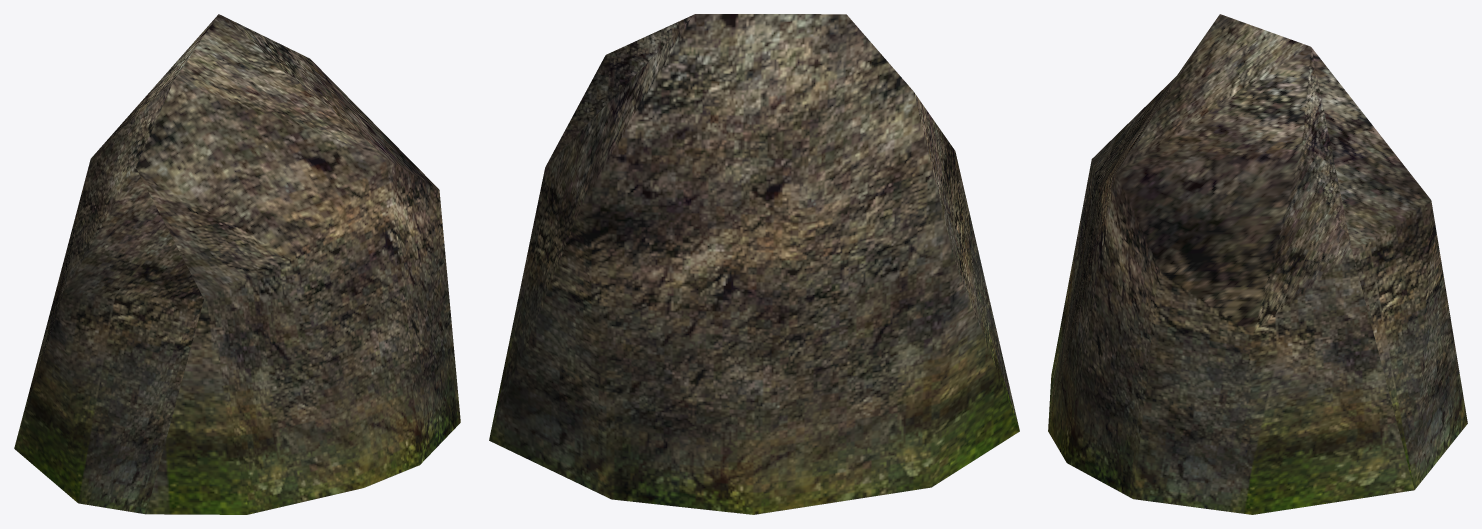
File: stone_field03.glb
3 views of the same model, side by side, from view 1: azimuth 30°, elevation 25°; view 2: azimuth 150°, elevation 25°; view 3: azimuth 270°, elevation 25° (orthographic). The views are drawn at different scales.
Parts seen in each view (by area): view 1: stone_field03; view 2: stone_field03; view 3: stone_field03.
Part boxes in pixels (x1,y1,x2,y2): stone_field03: (14,14,460,514); stone_field03: (489,14,1019,514); stone_field03: (1048,14,1467,514).
Bounding box in the file's own units: 9.64 × 8.71 × 8.76.
1 material, 1 textured.
